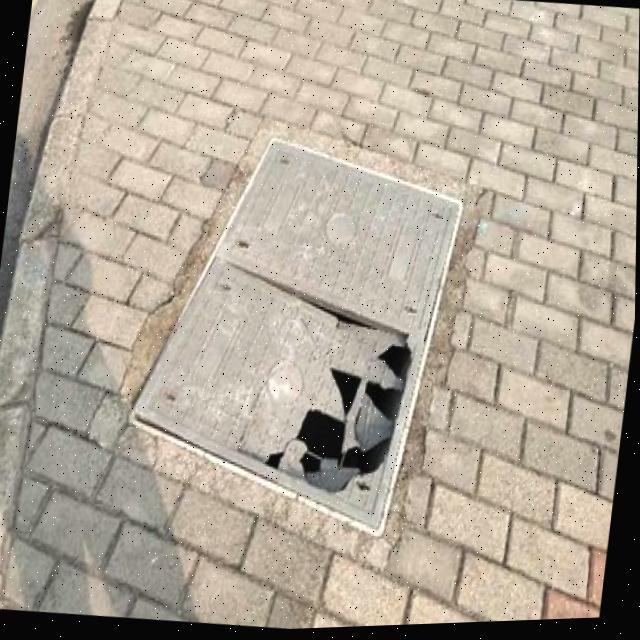manhole: (100, 110, 474, 558)
